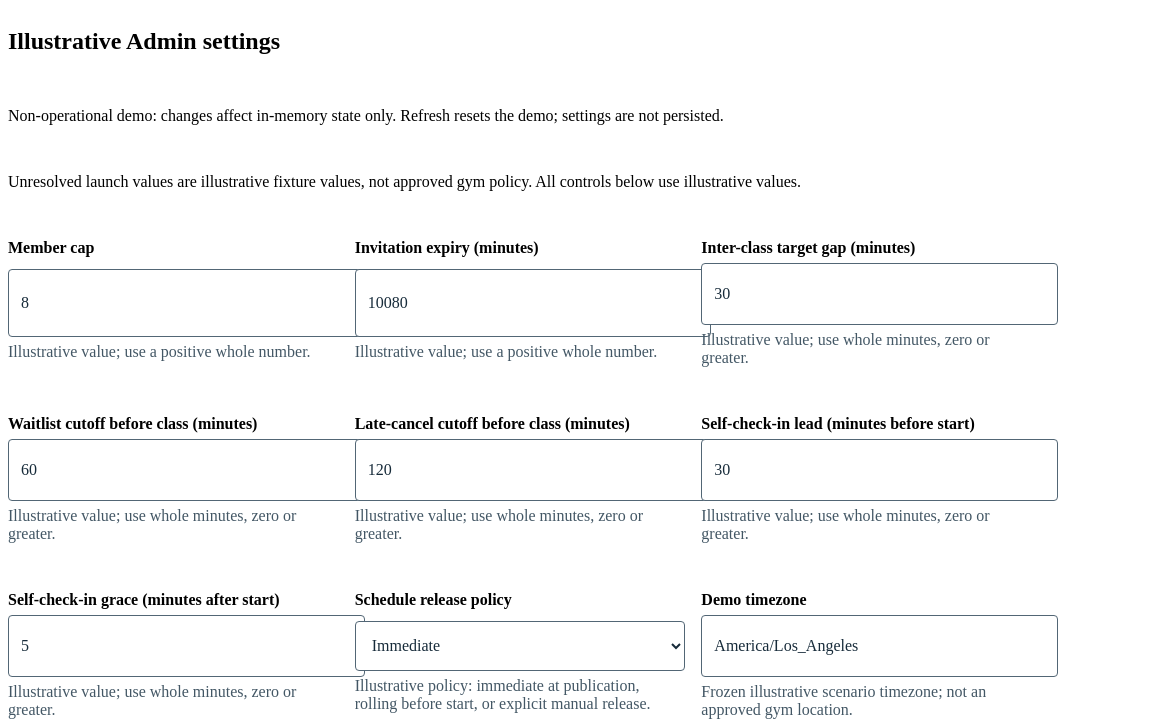
Scenario: Illustrative settings › Admin settings changes › submits an adjustable targetGapMinutes through real demo state
Replace the text in the number field labelled "Inter-class target gap (minutes)" with "42": (880, 294) left=701, top=263, right=1058, bottom=325
(page scrolled)
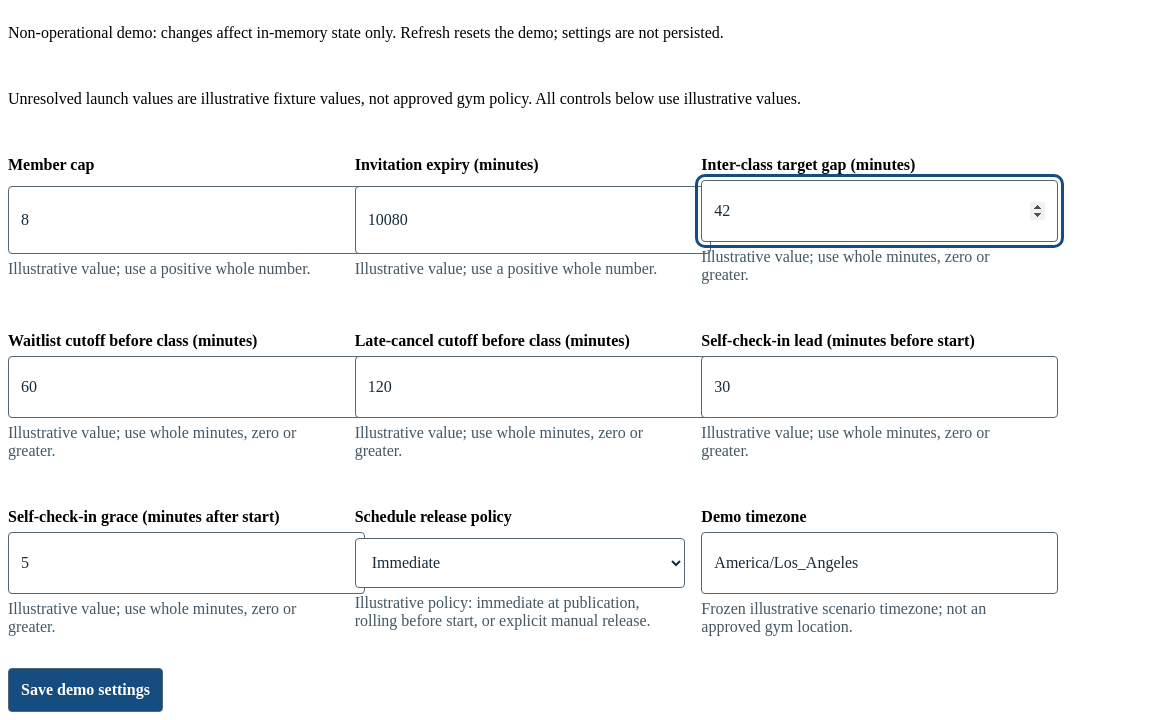
Click the button "Save demo settings": (85, 690) left=8, top=668, right=163, bottom=712
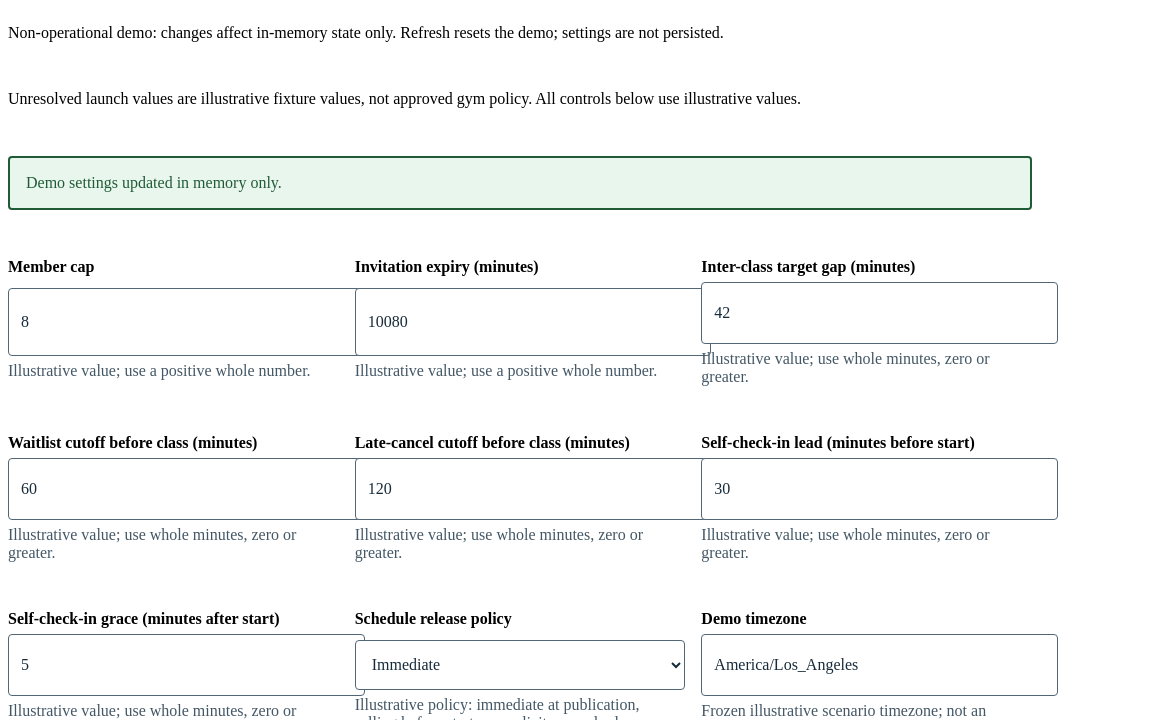
Expected: the message reads "Demo settings updated in memory only.", left=26, top=174, right=282, bottom=191
